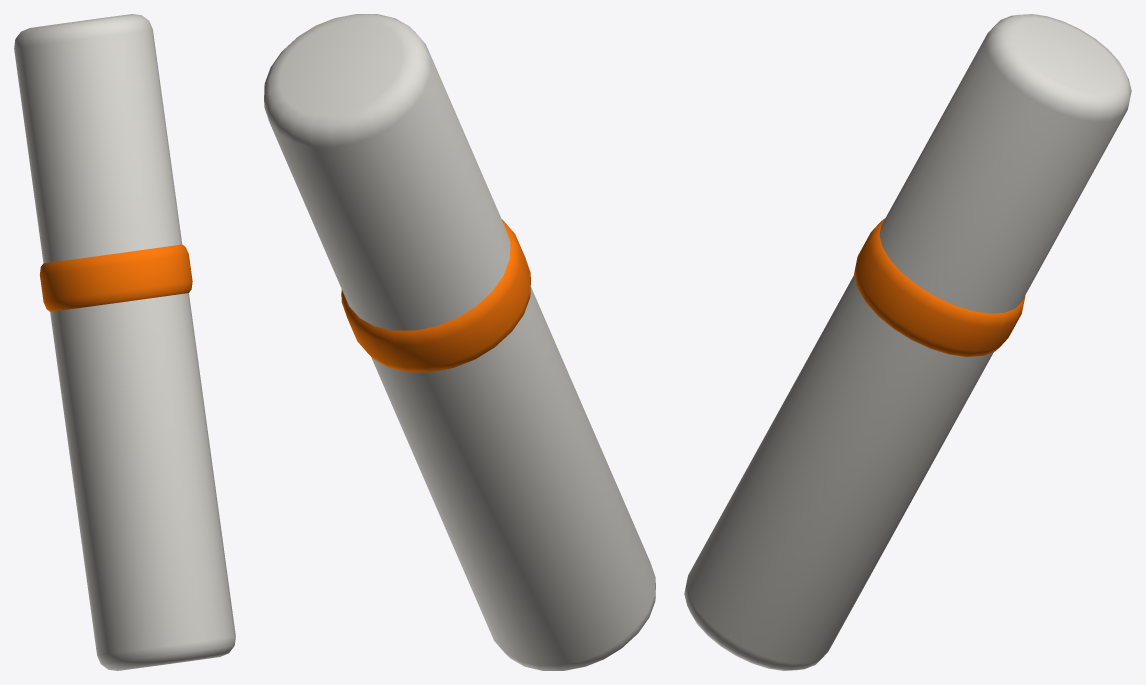
Rendered from part_map.glb.
The picture shows the model from 3 angles, left to right: view 1: azimuth 30°, elevation 25°; view 2: azimuth 150°, elevation 25°; view 3: azimuth 270°, elevation 25°; orthographic projection. The views are drawn at different scales.
Visible parts, largest first — view 1: Map_Roll, Map_Band; view 2: Map_Roll, Map_Band; view 3: Map_Roll, Map_Band.
Boxes of the visible parts, left/top/right/bottom form: Map_Roll: left=14, top=14, right=235, bottom=670; Map_Band: left=40, top=244, right=192, bottom=311; Map_Roll: left=264, top=14, right=655, bottom=670; Map_Band: left=341, top=219, right=530, bottom=372; Map_Roll: left=684, top=14, right=1131, bottom=670; Map_Band: left=854, top=218, right=1025, bottom=356.
Size of the model in its own units: 0.1503 by 0.4872 by 0.3025.
